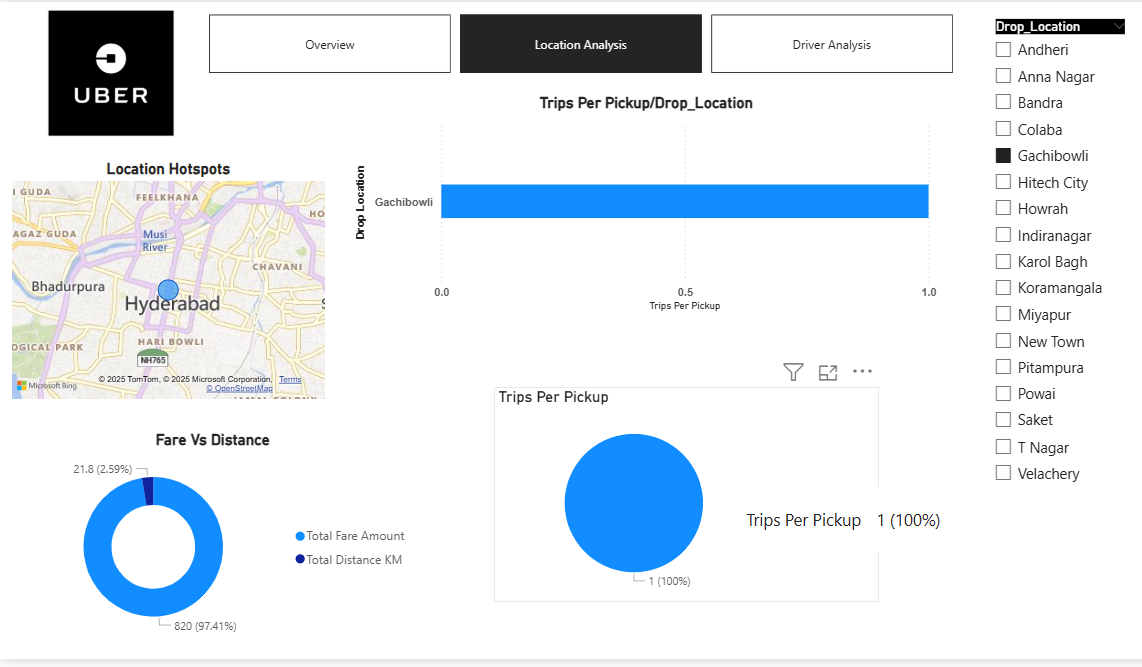

This screenshot's page, from the dashboard's own definition file:
{"tool":"powerbi","page":{"name":"Location Analysis","canvas":[1280,720],"ordinal":1},"visuals":[{"type":"image","box":[0,0,245.2,156.2],"z":0},{"type":"pageNavigator","box":[230.1,13.7,817.8,64.4],"z":3},{"type":"map","fields":{"Category":["uber_trip_dataset.Pickup_Location"]},"box":[9.6,172.6,352.1,267.1],"z":4},{"type":"slicer","fields":{"Values":["uber_trip_dataset.Drop_Location"]},"box":[1079.5,13.7,167.1,541.1],"z":6},{"type":"barChart","title":"Trips Per Pickup/Drop_Location","fields":{"Y":["uber_trip_dataset.Trips Per Pickup"],"Category":["uber_trip_dataset.Drop_Location"]},"box":[386.3,100,646.6,243.8],"z":7},{"type":"donutChart","title":"Fare Vs Distance","fields":{"Y":["uber_trip_dataset.Total Fare Amount","uber_trip_dataset.Total Distance KM"]},"box":[9.6,469.9,449.3,235.6],"z":8},{"type":"pieChart","fields":{"Y":["uber_trip_dataset.Trips Per Pickup"]},"box":[542.5,421.9,421.9,235.6],"z":9}]}

Visuals, with their boxes on the page's 1280x720 design canvas (x1, y1, x2, y2). These are canvas units, not pixel positions in the 1142x667 screenshot, which may show the page scaled, cropped or inside an application window:
image: (0, 0, 245, 156)
pageNavigator: (230, 14, 1048, 78)
map - uber_trip_dataset.Pickup_Location: (10, 173, 362, 440)
slicer - uber_trip_dataset.Drop_Location: (1080, 14, 1247, 555)
"Trips Per Pickup/Drop_Location" barChart: (386, 100, 1033, 344)
"Fare Vs Distance" donutChart: (10, 470, 459, 706)
pieChart - uber_trip_dataset.Trips Per Pickup: (542, 422, 964, 658)
